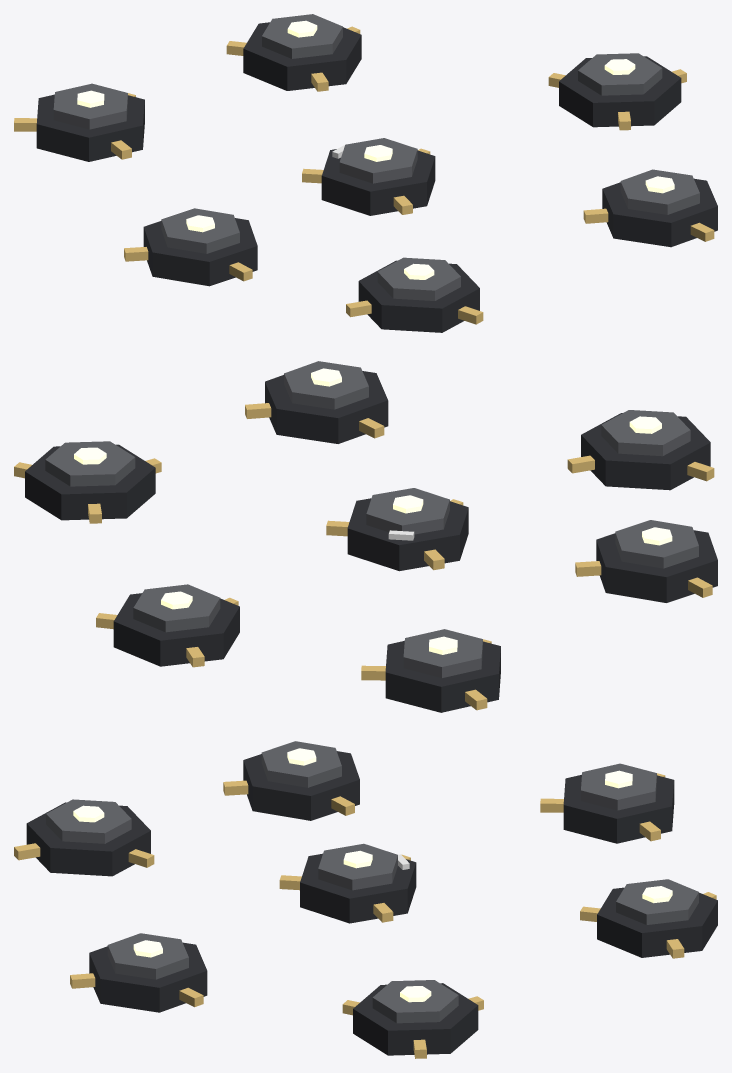
File: Aegis_MineField.fbx
The picture shows the model from 3 angles, top to bottom: view 1: azimuth 30°, elevation 25°; view 2: azimuth 150°, elevation 25°; view 3: azimuth 270°, elevation 25°; orthographic projection. The views are drawn at different scales.
Parts seen in each view (by area): view 1: MF_Shell1, MF_Shell2, MF_Shell5, MF_Shell4, MF_Shell6, MF_Shell0, MF_Shell3, MF_Top1, MF_Top5, MF_Top2, MF_Top6, MF_Top0 (+2 smaller); view 2: MF_Shell1, MF_Shell2, MF_Shell5, MF_Shell4, MF_Shell6, MF_Shell3, MF_Shell0, MF_Top1, MF_Top5, MF_Top2, MF_Top6, MF_Top4 (+2 smaller); view 3: MF_Shell1, MF_Shell2, MF_Shell5, MF_Shell6, MF_Shell4, MF_Shell3, MF_Shell0, MF_Top5, MF_Top1, MF_Top2, MF_Top4, MF_Top6 (+2 smaller).
Part boxes in pixels (x1,y1,x2,y2): MF_Shell1: (559, 56, 681, 127); MF_Shell2: (243, 22, 361, 90); MF_Shell5: (358, 260, 479, 332); MF_Shell4: (143, 218, 257, 286); MF_Shell6: (602, 178, 717, 247); MF_Shell0: (321, 149, 435, 215); MF_Shell3: (36, 94, 144, 161); MF_Top1: (578, 53, 662, 95); MF_Top5: (377, 257, 460, 300); MF_Top2: (262, 14, 342, 58); MF_Top6: (620, 169, 699, 214); MF_Top0: (339, 138, 417, 183); MF_Shell1: (25, 444, 155, 520); MF_Shell2: (113, 593, 239, 666); MF_Shell5: (581, 413, 710, 490); MF_Shell4: (596, 530, 717, 602); MF_Shell6: (265, 371, 388, 443); MF_Shell3: (385, 641, 500, 712); MF_Shell0: (347, 498, 468, 571); MF_Top1: (45, 441, 135, 486); MF_Top5: (601, 410, 690, 456); MF_Top2: (133, 584, 220, 632); MF_Top6: (284, 361, 368, 409); MF_Top4: (615, 520, 698, 568); MF_Shell1: (353, 983, 478, 1055); MF_Shell2: (597, 887, 717, 957); MF_Shell5: (26, 802, 150, 876); MF_Shell6: (89, 942, 207, 1012); MF_Shell4: (243, 751, 359, 820); MF_Shell3: (563, 774, 674, 843); MF_Shell0: (300, 853, 416, 923); MF_Top5: (46, 799, 131, 843); MF_Top1: (372, 980, 458, 1023); MF_Top2: (616, 879, 698, 924); MF_Top4: (261, 741, 341, 787); MF_Top6: (107, 933, 188, 979).
Size of the model in its own units: 1.82 by 0.1125 by 1.8.
